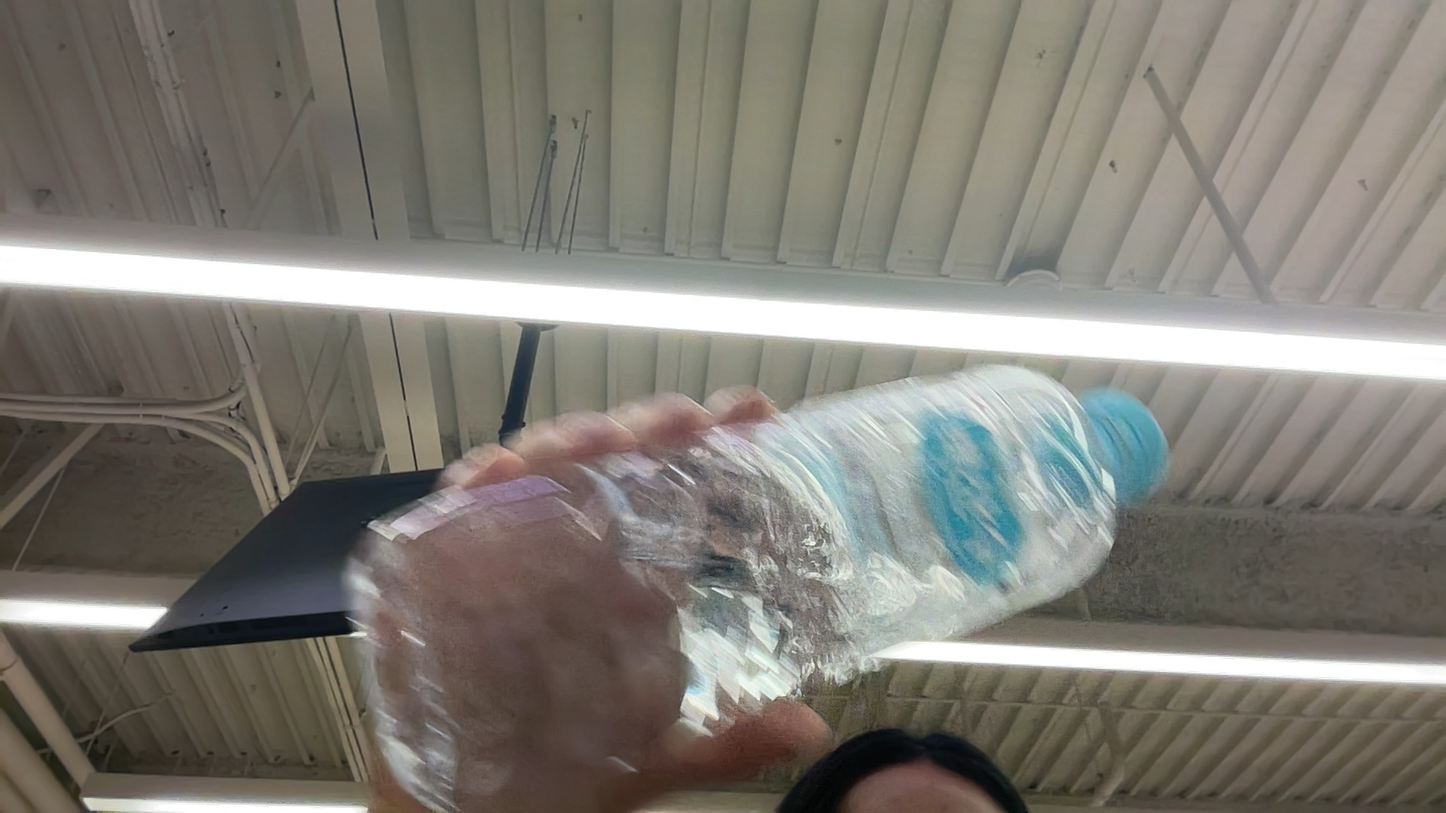Plastic: (358, 316, 1183, 796)
